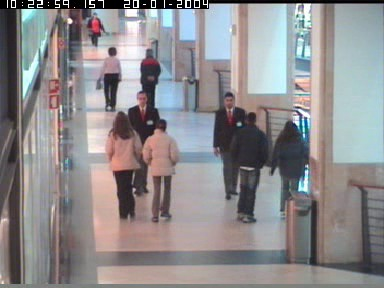person: (228, 111, 268, 223), (212, 91, 248, 200), (106, 112, 142, 219), (143, 119, 180, 222), (269, 122, 307, 218), (126, 91, 160, 196), (96, 47, 122, 111), (138, 47, 160, 108), (86, 12, 104, 46), (67, 16, 73, 53)
